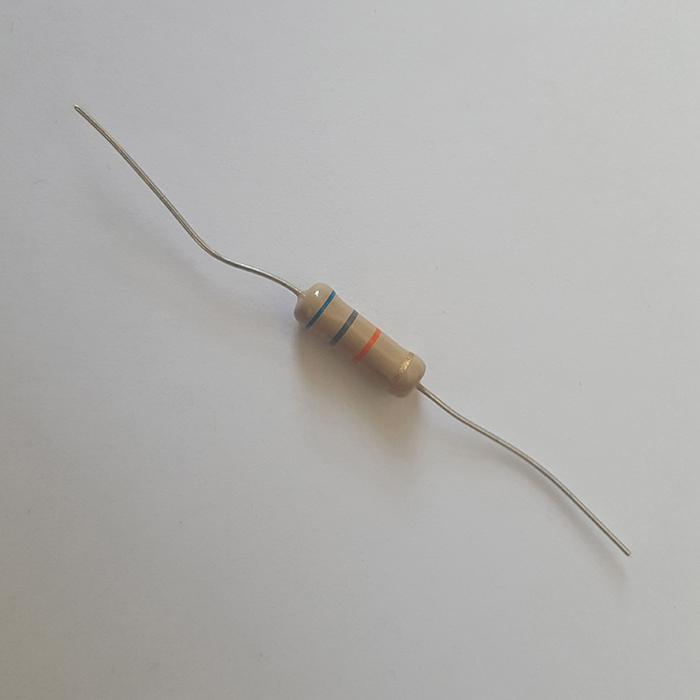resistor: (293, 278, 425, 395)
